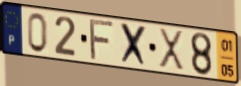0: (26, 11, 50, 55)
2: (53, 15, 78, 59)
8: (190, 31, 214, 78)
F: (88, 18, 117, 63)
X: (119, 21, 149, 70), (158, 27, 186, 74)
